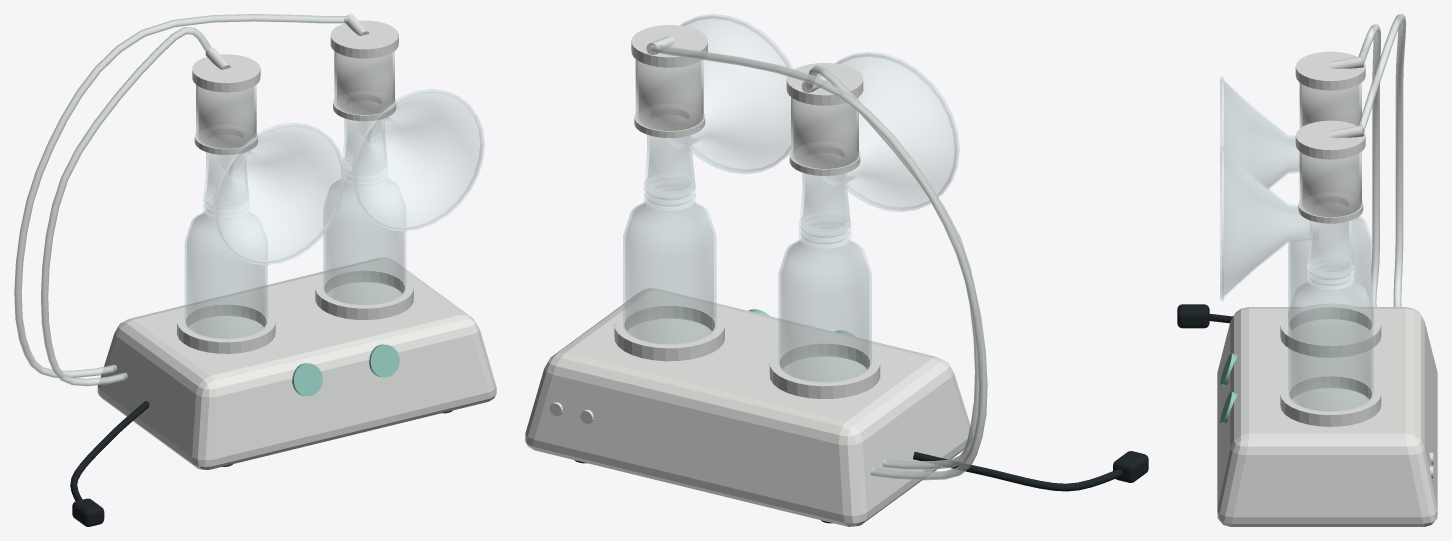
The model's file is A-NEW-20261026-ELECTRIC-BREAST-PUMP-001_LOD1_R3.fbx.
3 renders of one model, left to right at view 1: azimuth 30°, elevation 25°; view 2: azimuth 150°, elevation 25°; view 3: azimuth 270°, elevation 25°, orthographic. The views are drawn at different scales.
Visible parts, largest first — view 1: motor dock base, open flared shield 1, open flared shield 0, clear collection bottle 0, clear collection bottle 1, pale hose 1, pale hose 0, frosted upper separator 0, frosted upper separator 1, bottle cradle 0, bottle cradle 1, white separator lid 1 (+11 smaller); view 2: motor dock base, clear collection bottle 1, clear collection bottle 0, open flared shield 0, open flared shield 1, pale hose 1, frosted upper separator 1, frosted upper separator 0, bottle cradle 0, bottle cradle 1, clear connector 0, clear connector 1 (+9 smaller); view 3: motor dock base, clear collection bottle 1, open flared shield 1, open flared shield 0, frosted upper separator 1, pale hose 1, bottle cradle 1, bottle cradle 0, clear collection bottle 0, pale hose 0, clear connector 1, frosted upper separator 0 (+7 smaller).
Boxes of the visible parts, box(x1,y1,x2,y2) form: motor dock base: box(97, 257, 496, 469); open flared shield 1: box(353, 91, 482, 229); open flared shield 0: box(215, 124, 343, 262); clear collection bottle 0: box(185, 191, 267, 338); clear collection bottle 1: box(323, 157, 405, 304); pale hose 1: box(14, 14, 347, 377); pale hose 0: box(41, 27, 211, 386); frosted upper separator 0: box(196, 85, 256, 154); frosted upper separator 1: box(334, 51, 394, 114); bottle cradle 0: box(177, 300, 275, 353); bottle cradle 1: box(315, 267, 413, 319); white separator lid 1: box(330, 20, 398, 58); motor dock base: box(525, 288, 972, 526); clear collection bottle 1: box(623, 177, 716, 343); clear collection bottle 0: box(778, 215, 871, 381); open flared shield 0: box(819, 54, 956, 209); open flared shield 1: box(664, 16, 790, 171); pale hose 1: box(650, 44, 987, 480); frosted upper separator 1: box(635, 59, 703, 138); frosted upper separator 0: box(791, 97, 858, 175); bottle cradle 0: box(769, 339, 880, 398); bottle cradle 1: box(614, 301, 724, 361); clear connector 0: box(800, 173, 849, 233); clear connector 1: box(644, 135, 694, 195); motor dock base: box(1217, 307, 1437, 526); clear collection bottle 1: box(1288, 259, 1373, 411); open flared shield 1: box(1222, 148, 1318, 298); open flared shield 0: box(1222, 79, 1299, 188); frosted upper separator 1: box(1299, 151, 1361, 223); pale hose 1: box(1358, 14, 1406, 306); bottle cradle 1: box(1280, 372, 1381, 426); bottle cradle 0: box(1280, 303, 1381, 357); clear collection bottle 0: box(1288, 216, 1373, 322); pale hose 0: box(1358, 24, 1381, 306); clear connector 1: box(1308, 221, 1353, 276); frosted upper separator 0: box(1299, 82, 1361, 128).
Size of the model in its own units: 39.67 by 33.68 by 20.11.
